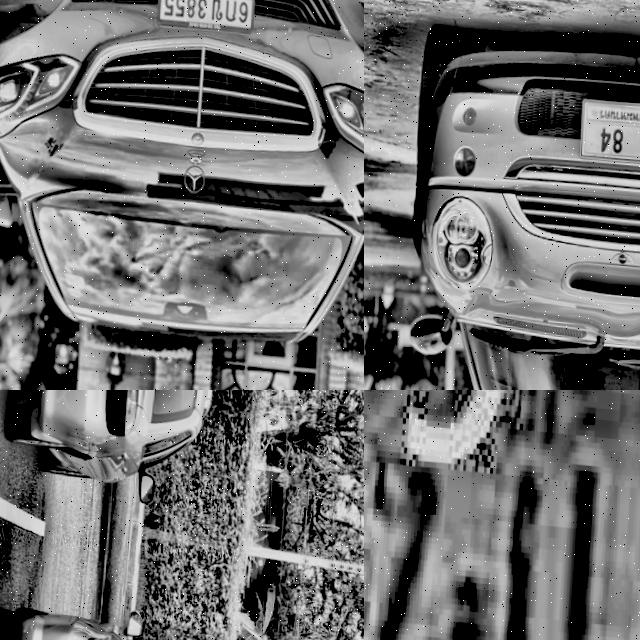license-plate: (364, 390, 640, 640), (577, 91, 640, 162), (154, 0, 258, 35), (324, 580, 364, 623)
